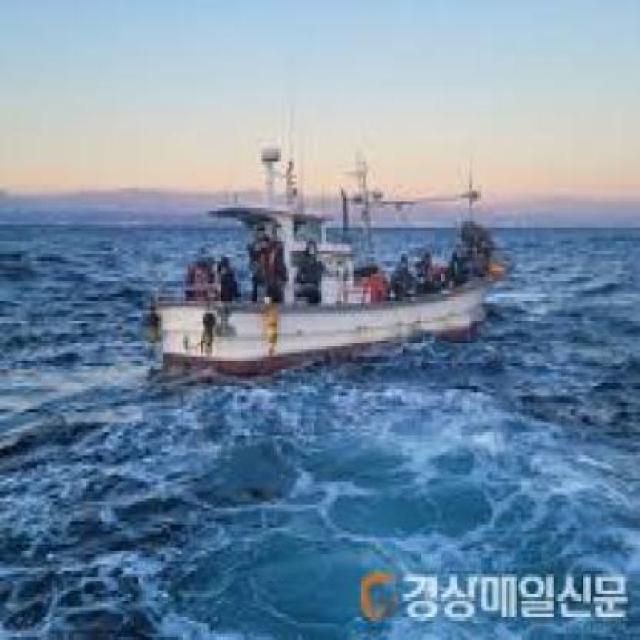fish-b: (137, 134, 528, 394)
